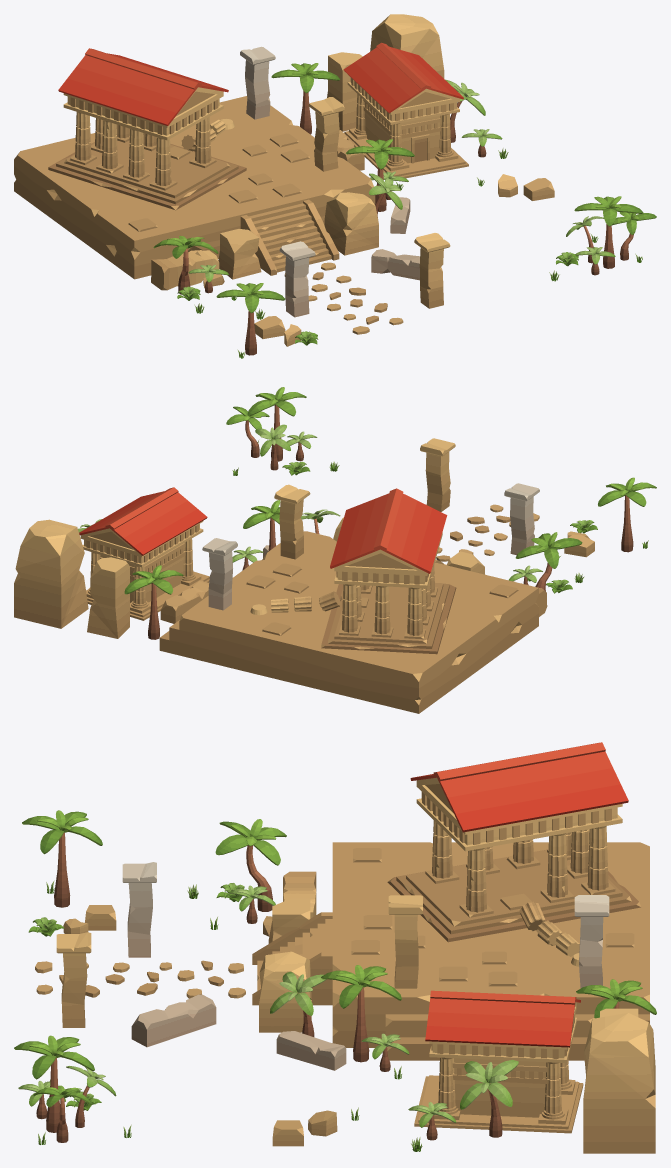
Rendered from roman_ruins.glb.
3 renders of one model, top to bottom at view 1: azimuth 30°, elevation 25°; view 2: azimuth 150°, elevation 25°; view 3: azimuth 270°, elevation 25°, orthographic. The views are drawn at different scales.
Parts seen in each view (by area): view 1: desert stone ruins_14, roman temple 2_43, roman temple_6, desert stone large (1)_1, desert stone large_21, desert stones large white 7_54, desert stone large 7_50, desert stone large 7 (1)_47, desert stone large 3_48, desert stones large white 7 (1)_2, desert stone large 4_24, desert stone large 2_56 (+13 smaller); view 2: desert stone ruins_14, roman temple 2_43, roman temple_6, desert stone large_21, desert stone large 2_56, desert stone large 7 (1)_47, desert stone large 7_50, desert stones large white 7 (1)_2, desert stones large white 7_54, palm tree large 3 (2)_45, palm tree large 3 (1)_61, palm tree bent 3_52 (+6 smaller); view 3: desert stone ruins_14, roman temple 2_43, roman temple_6, desert stone large_21, desert stone large (1)_1, desert stones large white 6_3, desert stone large 7_50, desert stones large white 7_54, desert stone large 7 (1)_47, desert stones large white 7 (1)_2, palm tree large 3 (2)_45, palm tree large 3_20 (+16 smaller).
Part boxes in pixels (x1,y1,x2,y2): desert stone ruins_14: (14, 96, 375, 279); roman temple 2_43: (48, 48, 246, 210); roman temple_6: (343, 42, 468, 178); desert stone large (1)_1: (324, 192, 378, 255); desert stone large_21: (370, 14, 444, 78); desert stones large white 7_54: (279, 241, 315, 317); desert stone large 7_50: (414, 233, 450, 308); desert stone large 7 (1)_47: (308, 97, 344, 171); desert stone large 3_48: (218, 229, 261, 279); desert stones large white 7 (1)_2: (240, 46, 275, 119); desert stone large 4_24: (151, 250, 219, 290); desert stone large 2_56: (327, 52, 362, 131); desert stone ruins_14: (159, 531, 538, 713); roman temple 2_43: (321, 488, 456, 654); roman temple_6: (79, 487, 209, 620); desert stone large_21: (14, 519, 88, 628); desert stone large 2_56: (87, 557, 129, 638); desert stone large 7 (1)_47: (274, 484, 310, 559); desert stone large 7_50: (420, 438, 455, 511); desert stones large white 7 (1)_2: (202, 538, 237, 610); desert stones large white 7_54: (504, 483, 539, 557); palm tree large 3 (2)_45: (598, 477, 656, 552); palm tree large 3 (1)_61: (124, 565, 183, 639); palm tree bent 3_52: (515, 532, 582, 591); desert stone ruins_14: (252, 842, 649, 1060); roman temple 2_43: (387, 742, 641, 942); roman temple_6: (414, 990, 583, 1133); desert stone large_21: (583, 1013, 655, 1153); desert stone large (1)_1: (259, 951, 311, 1032); desert stones large white 6_3: (131, 994, 216, 1047); desert stone large 7_50: (56, 932, 91, 1027); desert stones large white 7_54: (122, 862, 156, 957); desert stone large 7 (1)_47: (388, 895, 422, 988); desert stones large white 7 (1)_2: (574, 895, 609, 987); palm tree large 3 (2)_45: (22, 810, 102, 907); palm tree large 3_20: (321, 965, 401, 1062).
Bounding box in the file's own units: 18.88 × 6.23 × 18.69.
Materials: 1 (1 with a texture image).
